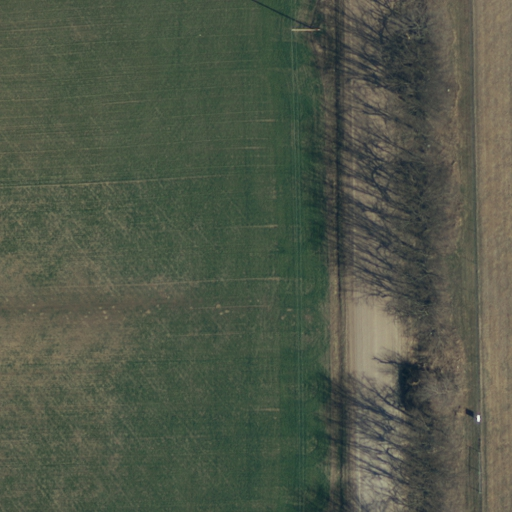DT: (287, 19, 324, 43)
